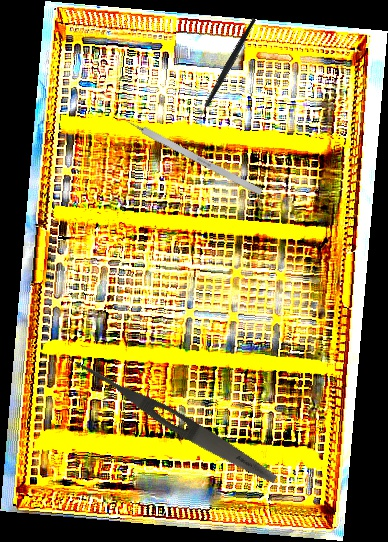Chopper: (169, 17, 286, 128)
Dressing Forceps: (69, 354, 281, 489)
Hook Surgical: (114, 111, 264, 197)
